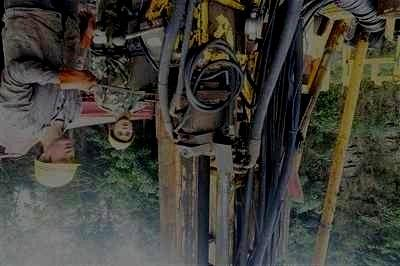helmet: (33, 137, 82, 189), (108, 118, 135, 150)
